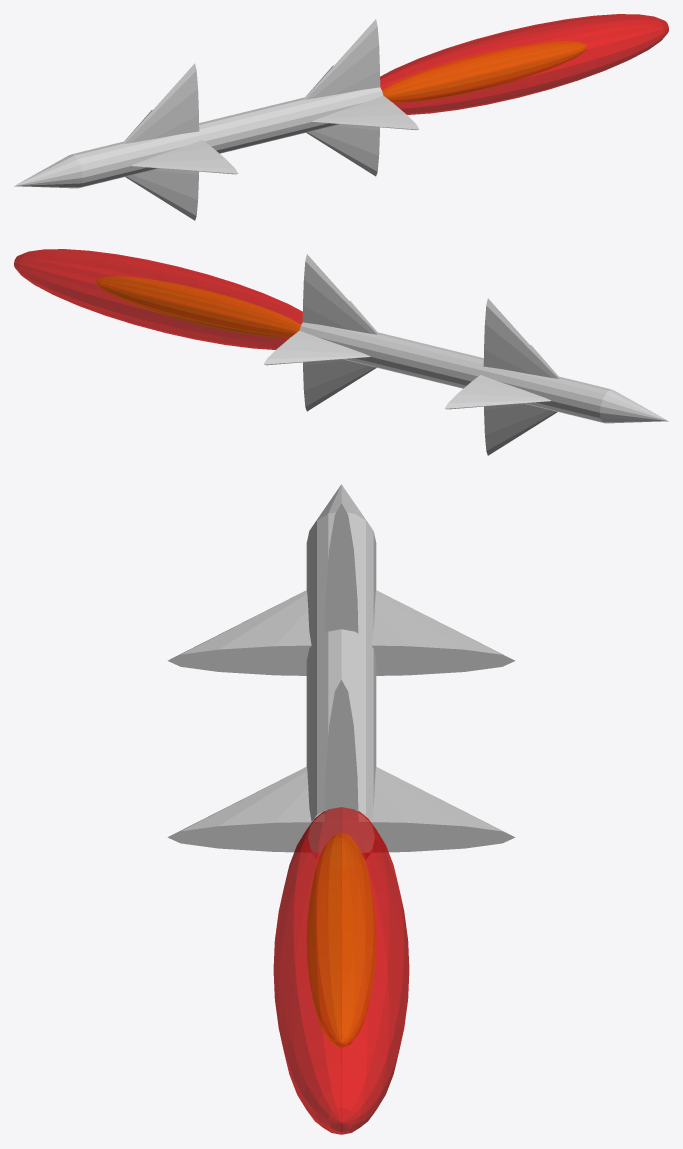
Rendered from missile.dae.
3 views of the same model, one above another, from view 1: azimuth 30°, elevation 25°; view 2: azimuth 150°, elevation 25°; view 3: azimuth 270°, elevation 25° (orthographic). The views are drawn at different scales.
Visible parts, largest first — view 1: Sphere_2_Sphere, Body_Cylinder, Sphere_1_Sphere, Cone4_Cone, Cone_Cone, Cone2_Cone, Cone3_Cone, Cap_Cone; view 2: Sphere_2_Sphere, Body_Cylinder, Sphere_1_Sphere, Cone_Cone, Cone4_Cone, Cone2_Cone, Cone3_Cone, Cap_Cone; view 3: Sphere_2_Sphere, Cone2_Cone, Body_Cylinder, Cone3_Cone, Sphere_1_Sphere, Cone_Cone, Cone4_Cone.
Part boxes in pixels (box(x1,y1,x2,y2)): Sphere_2_Sphere: box(380, 14, 668, 114); Body_Cylinder: box(71, 87, 383, 188); Sphere_1_Sphere: box(382, 41, 586, 102); Cone4_Cone: box(123, 63, 199, 220); Cone_Cone: box(304, 19, 380, 176); Cone2_Cone: box(306, 65, 419, 130); Cone3_Cone: box(124, 110, 238, 174); Cap_Cone: box(14, 154, 82, 188); Sphere_2_Sphere: box(14, 249, 302, 349); Body_Cylinder: box(299, 322, 611, 423); Sphere_1_Sphere: box(96, 276, 300, 337); Cone_Cone: box(302, 254, 378, 411); Cone4_Cone: box(483, 298, 559, 455); Cone2_Cone: box(263, 300, 376, 365); Cone3_Cone: box(444, 345, 558, 409); Cap_Cone: box(600, 389, 668, 423); Sphere_2_Sphere: box(273, 807, 409, 1134); Cone2_Cone: box(167, 766, 515, 852); Body_Cylinder: box(306, 512, 376, 859); Cone3_Cone: box(167, 590, 515, 675); Sphere_1_Sphere: box(307, 833, 375, 1047); Cone_Cone: box(324, 680, 358, 846); Cone4_Cone: box(324, 503, 358, 633).
Bounding box in the file's own units: 43.4 × 10 × 10.
